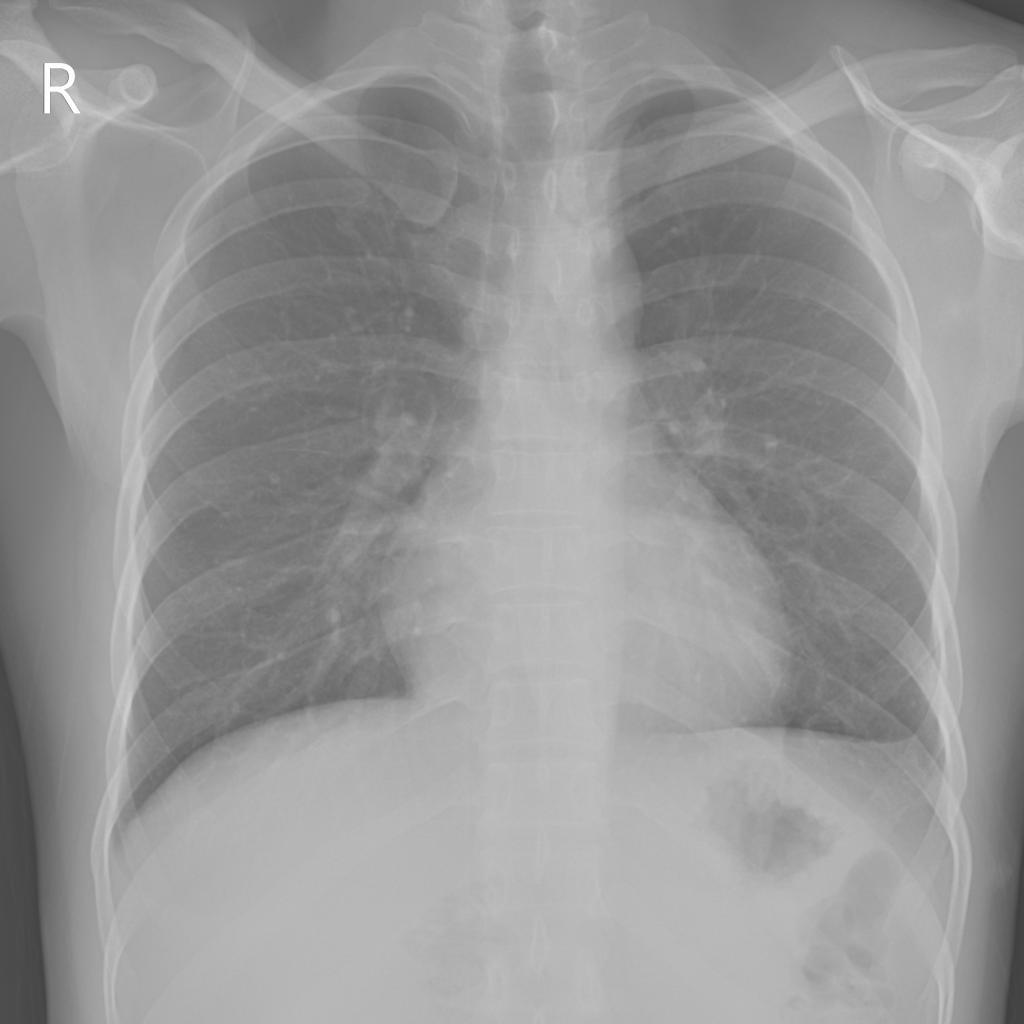Nodule: (644, 350, 717, 422)
